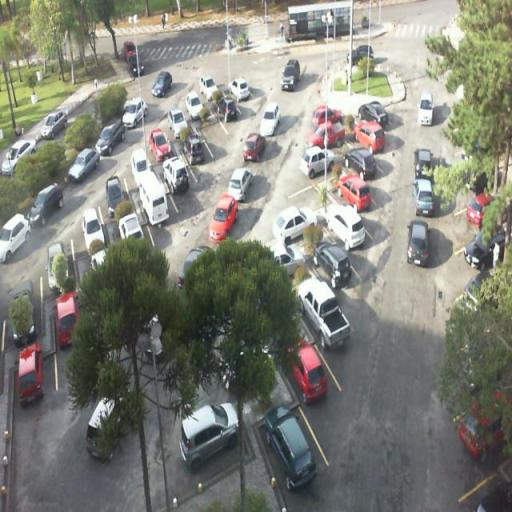Slot-empty: (194, 108, 234, 158), (282, 181, 334, 216)
Slot-occupied: (253, 400, 326, 498), (268, 325, 344, 418), (174, 393, 252, 478), (288, 276, 363, 352), (7, 338, 66, 416), (317, 194, 378, 260), (308, 236, 357, 295)
